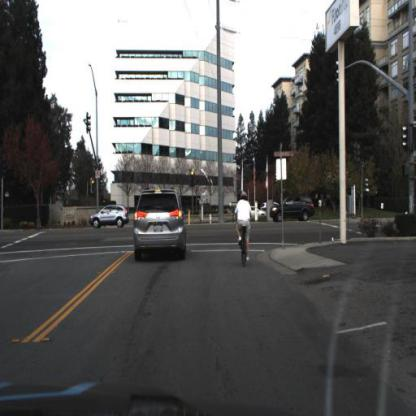biker: (232, 191, 253, 268)
car: (132, 188, 189, 263), (268, 193, 317, 224), (88, 202, 131, 233)
trafficLight-Red: (190, 167, 198, 190), (190, 169, 196, 185), (92, 180, 96, 190)
